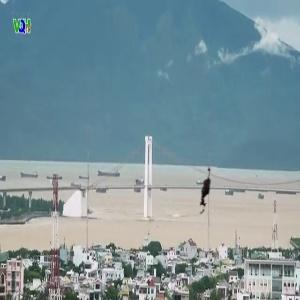drone: (179, 160, 235, 216)
